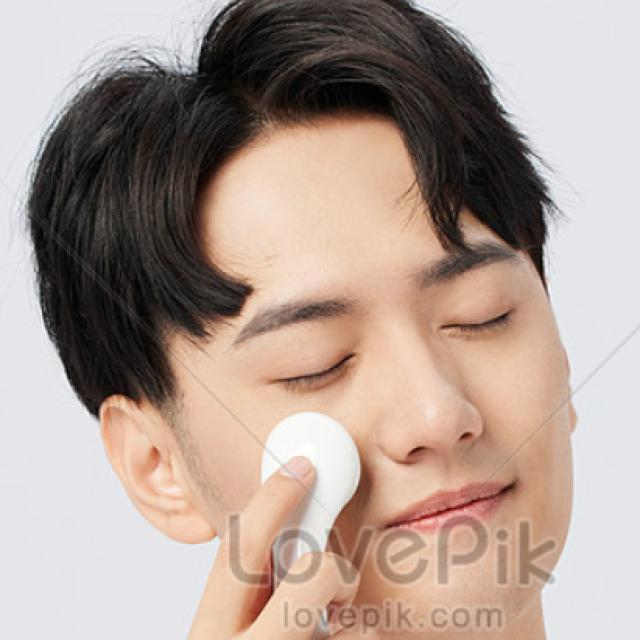close: (219, 282, 380, 406), (408, 236, 540, 346)
